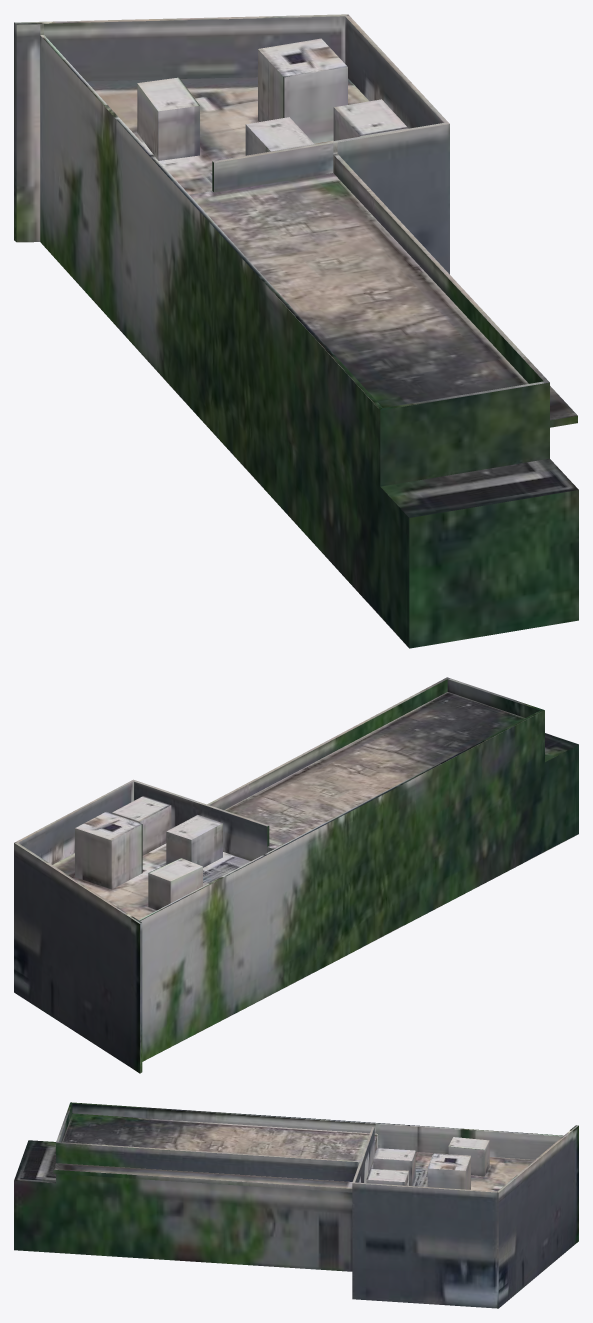
The picture shows the model from 3 angles, top to bottom: view 1: azimuth 30°, elevation 25°; view 2: azimuth 150°, elevation 25°; view 3: azimuth 270°, elevation 25°; orthographic projection. The views are drawn at different scales.
Visible parts, largest first — view 1: B282384037201062A0; view 2: B282384037201062A0; view 3: B282384037201062A0.
Boxes of the visible parts, x1=… form: B282384037201062A0: x1=14, y1=14, x2=578, y2=648; B282384037201062A0: x1=14, y1=677, x2=578, y2=1073; B282384037201062A0: x1=14, y1=1102, x2=578, y2=1308.
Bounding box in the file's own units: 9.78 × 5.66 × 23.62.
Materials: 1 (1 with a texture image).
